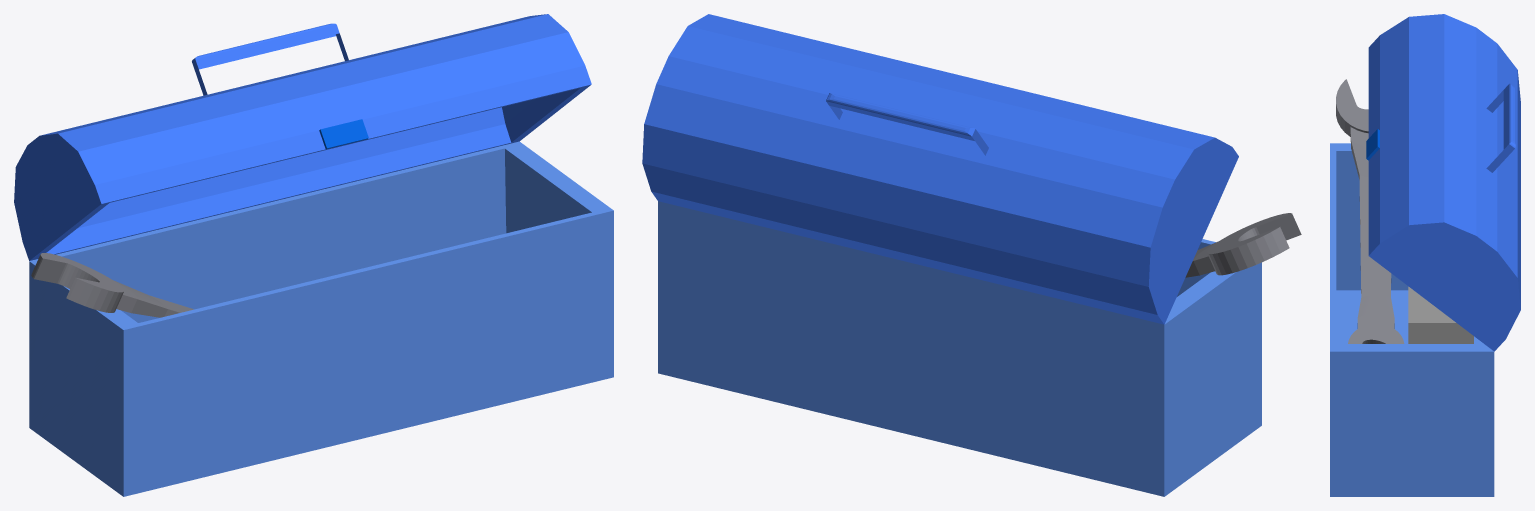
File: Toolbox_tools.fbx
The picture shows the model from 3 angles, left to right: view 1: azimuth 30°, elevation 25°; view 2: azimuth 150°, elevation 25°; view 3: azimuth 270°, elevation 25°; orthographic projection. The views are drawn at different scales.
Visible parts, largest first — view 1: Circle; view 2: Circle; view 3: Circle.
Boxes of the visible parts, bbox=[...] form: Circle: bbox=[14, 14, 613, 496]; Circle: bbox=[642, 14, 1301, 496]; Circle: bbox=[1330, 14, 1520, 496].
Bounding box in the file's own units: 96.66 × 54.05 × 33.43.
